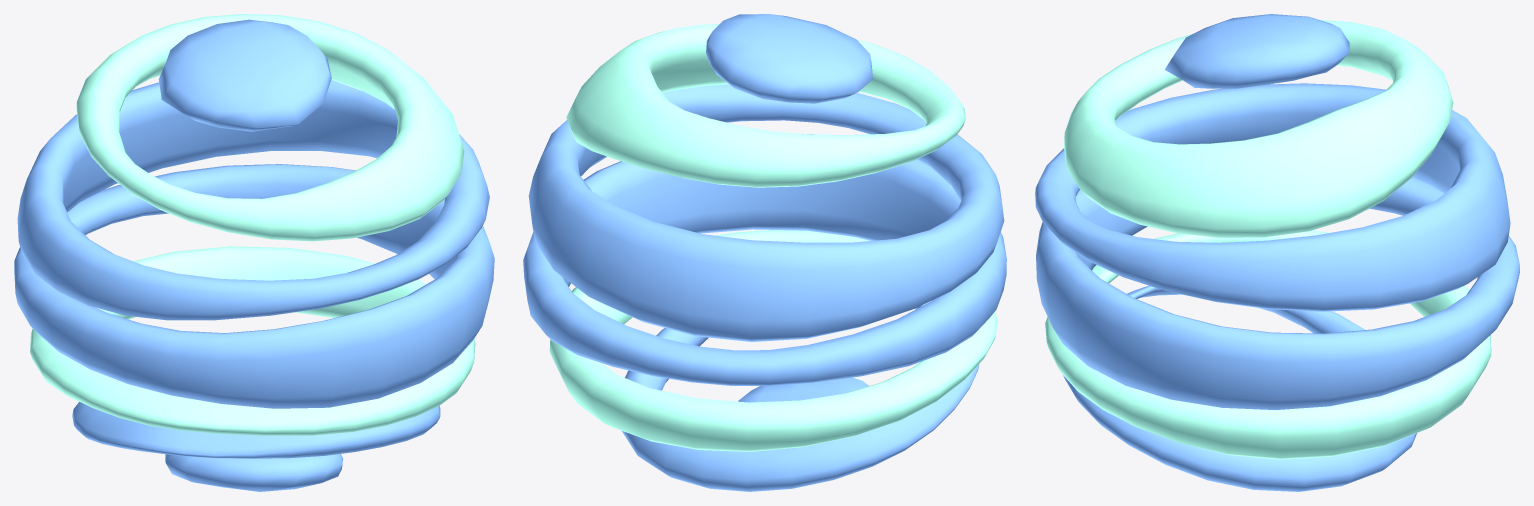
Rendered from Planet_Acc_Cirrus.fbx.
3 renders of one model, left to right at view 1: azimuth 30°, elevation 25°; view 2: azimuth 150°, elevation 25°; view 3: azimuth 270°, elevation 25°, orthographic.
Parts seen in each view (by area): view 1: Cirrus; view 2: Cirrus; view 3: Cirrus.
Part boxes in pixels (x1,y1,x2,y2): Cirrus: [14, 14, 494, 491]; Cirrus: [523, 14, 1006, 491]; Cirrus: [1035, 14, 1519, 491].
Size of the model in its own units: 2.07 by 2.06 by 2.08.
